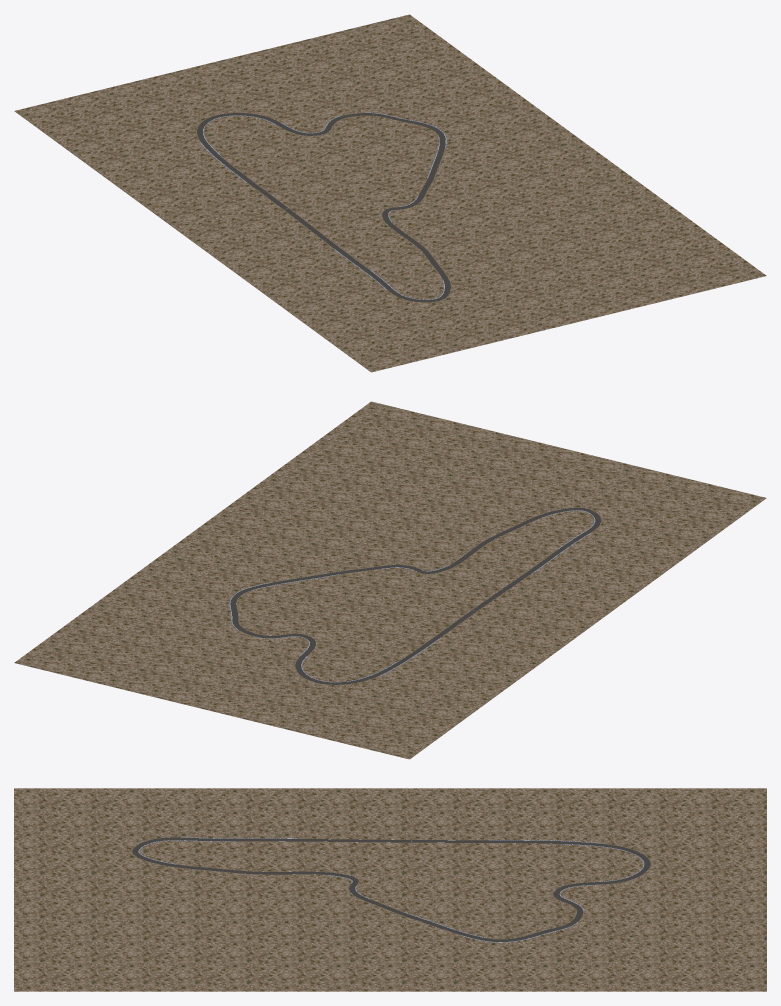
Rendered from la_chutana_base.glb.
3 renders of one model, top to bottom at view 1: azimuth 30°, elevation 25°; view 2: azimuth 150°, elevation 25°; view 3: azimuth 270°, elevation 25°, orthographic. The views are drawn at different scales.
Visible parts, largest first — view 1: GrassTerrainVisual, RoadVisual; view 2: GrassTerrainVisual, RoadVisual, RightRoadsideVisual, LeftRoadsideVisual; view 3: GrassTerrainVisual, RoadVisual, LeftRoadsideVisual, RightRoadsideVisual.
Part boxes in pixels (<box>): GrassTerrainVisual: <box>14,14,766,372</box>; RoadVisual: <box>197,113,450,302</box>; GrassTerrainVisual: <box>14,401,766,759</box>; RoadVisual: <box>230,507,601,684</box>; RightRoadsideVisual: <box>238,507,602,685</box>; LeftRoadsideVisual: <box>236,518,557,681</box>; GrassTerrainVisual: <box>14,788,766,991</box>; RoadVisual: <box>132,837,650,941</box>; LeftRoadsideVisual: <box>176,841,635,939</box>; RightRoadsideVisual: <box>131,837,651,934</box>.
Size of what is drawn, in the model's own units: 894 by 0.8765 by 1398.
8 materials, 6 textured.
